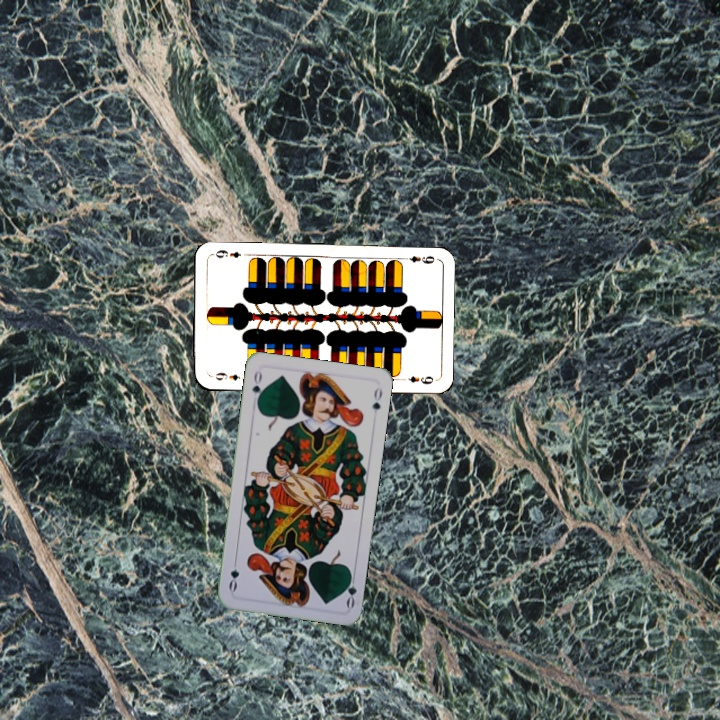E9: (208, 369, 248, 383), (398, 252, 437, 266)
GO: (340, 569, 359, 610), (248, 367, 265, 407)
